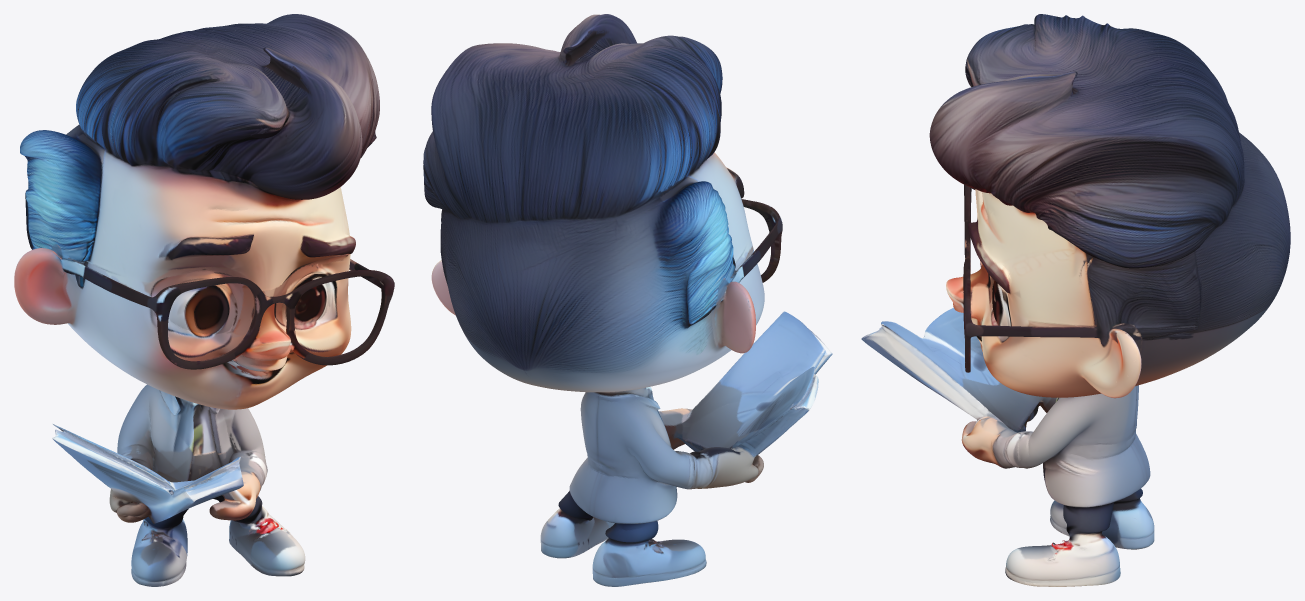
The model's file is male-avatar2.glb.
3 renders of one model, left to right at view 1: azimuth 30°, elevation 25°; view 2: azimuth 150°, elevation 25°; view 3: azimuth 270°, elevation 25°, orthographic. The views are drawn at different scales.
Visible parts, largest first — view 1: model; view 2: model; view 3: model.
Part boxes in pixels (<box>): model: <box>14,14,394,586</box>; model: <box>423,14,832,586</box>; model: <box>861,14,1290,586</box>.
Bounding box in the file's own units: 1.31 × 1.9 × 1.43.
Materials: 1 (1 with a texture image).
